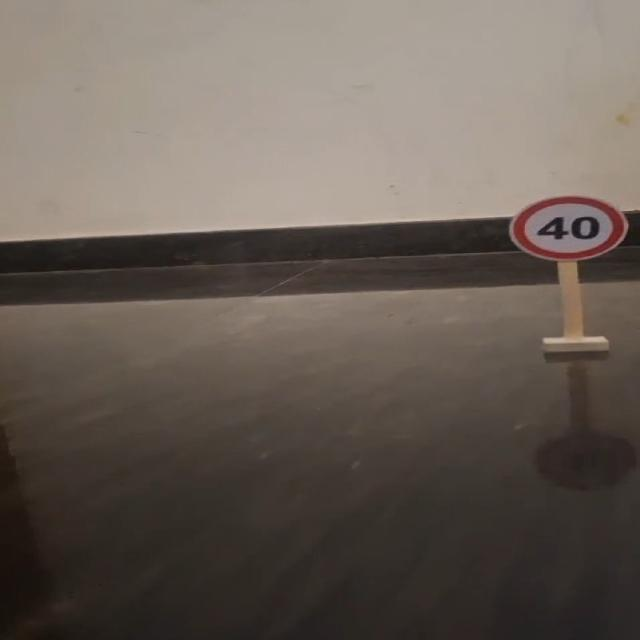Speed40: (508, 193, 632, 263)
